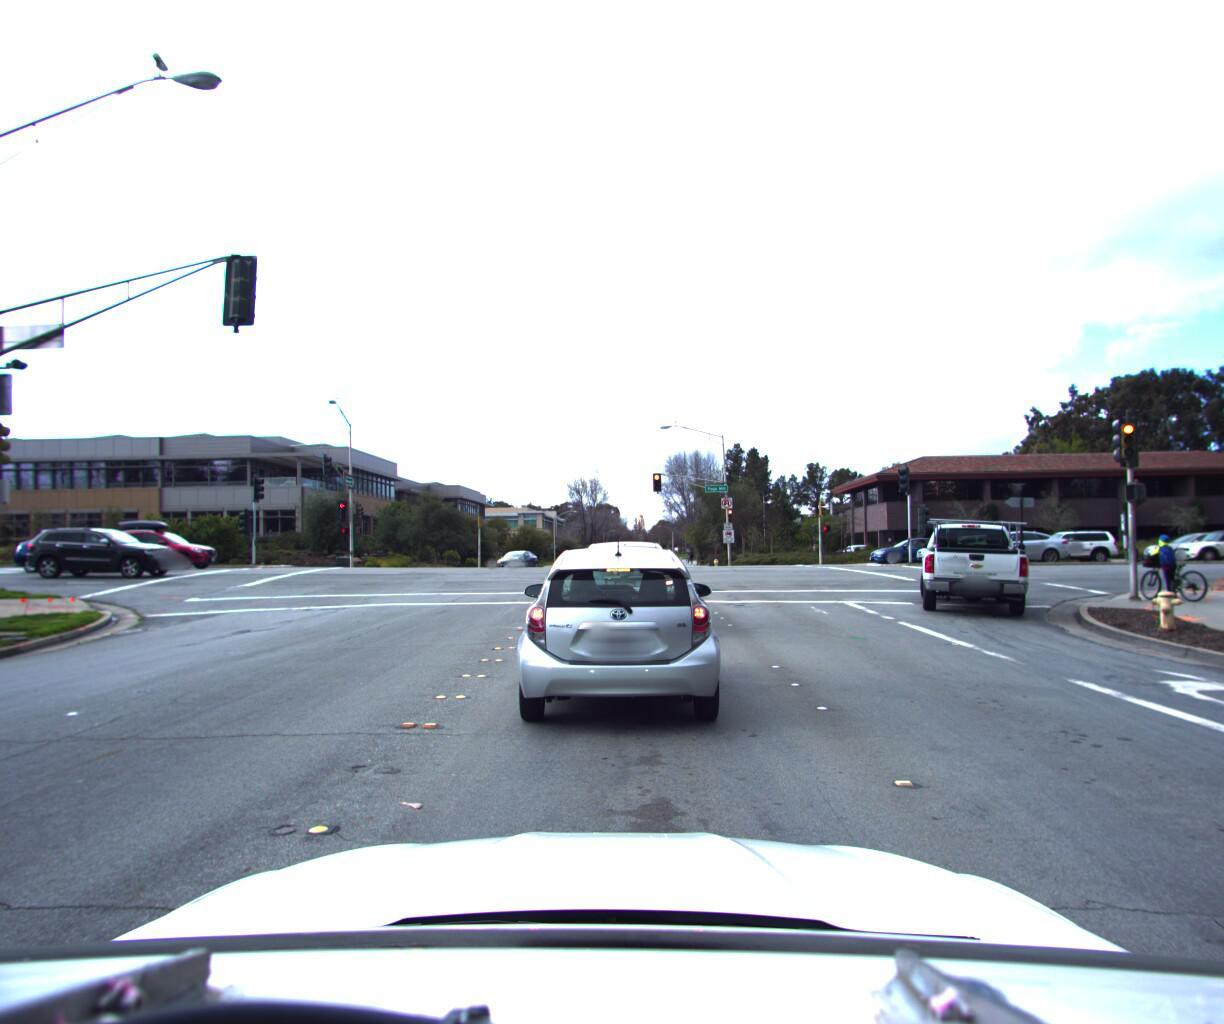bicycle: (1120, 526, 1217, 598)
car: (502, 538, 750, 742), (560, 537, 701, 646), (906, 508, 1030, 614), (17, 521, 192, 578), (3, 527, 143, 575), (97, 525, 228, 575), (946, 517, 1078, 564), (1012, 523, 1126, 560), (858, 531, 969, 565), (1127, 525, 1224, 558), (1163, 521, 1224, 560), (493, 545, 542, 571)
